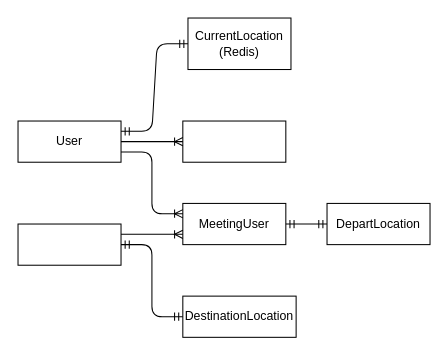
Image size: 448x355. Some labels were removed from this diagram. The shapes that lost their labels are listed below. From the top down, each one's centre as x and y in pixels, then its label:
At point 234,141: "UserRoles".
At point 69,244: "Meeting".
